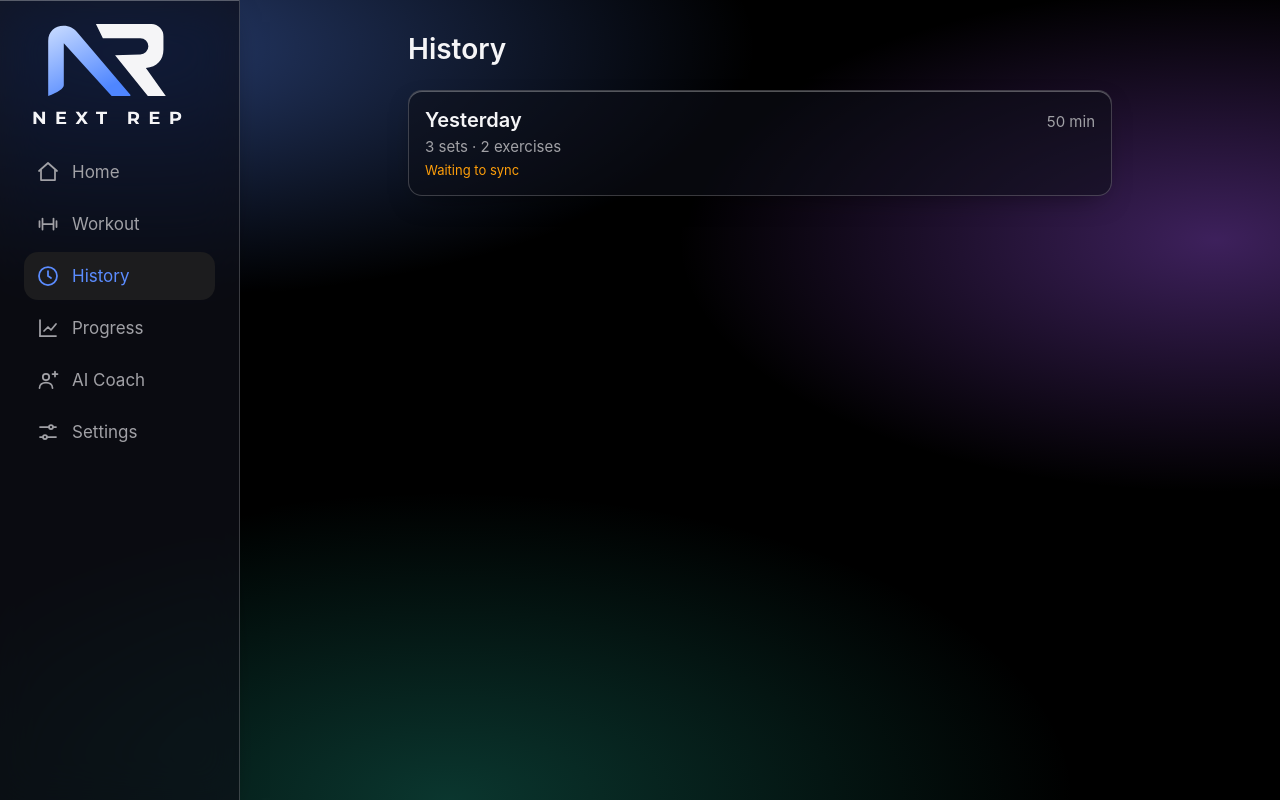
a past workout › shows the sets by exercise, numbered, with the bar breakdown
This screenshot has width=1280, height=800.
Click the link "Yesterday 50 min 3 sets · 2 exercises Waiting to sync" at (473, 120), box top-left (408, 90), bottom-right (1112, 196)
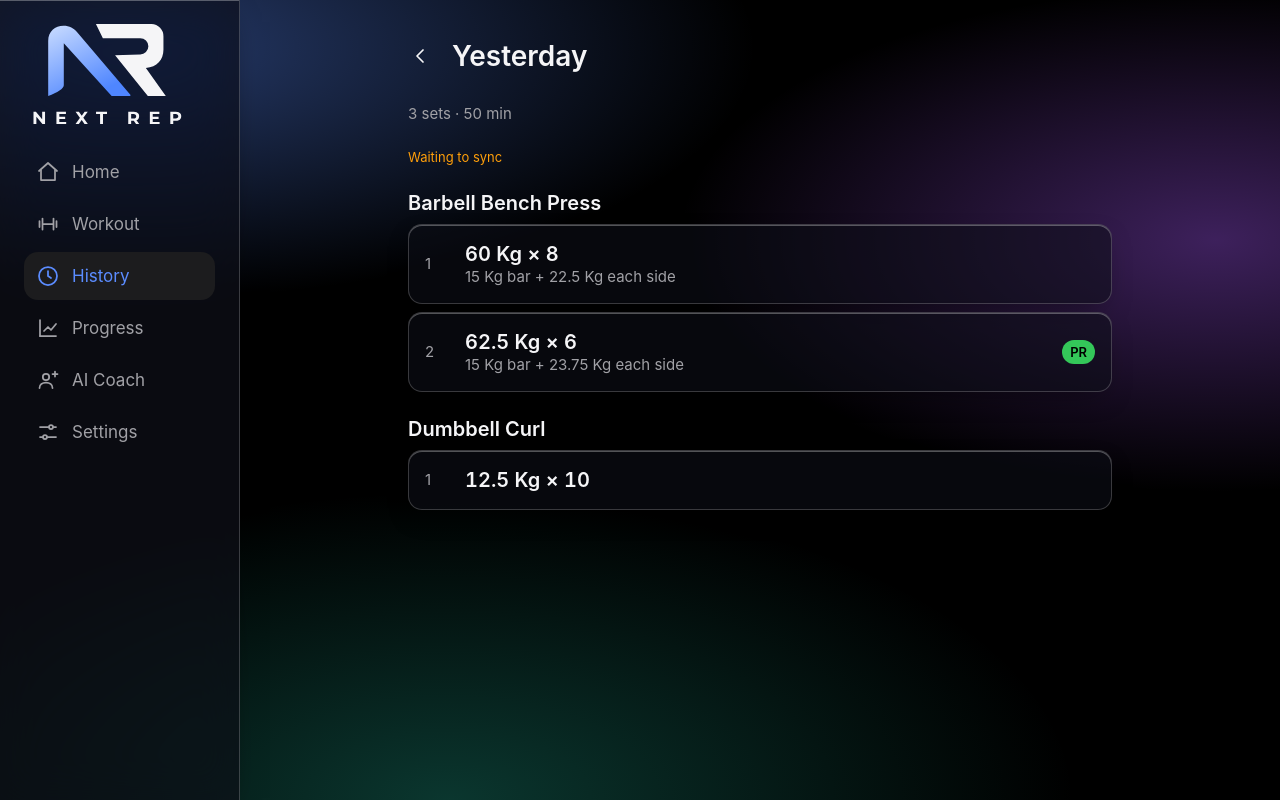
Expected: the heading "Yesterday" is shown, top-left (452, 39), bottom-right (587, 73)
Expected: the text "3 sets · 50 min" is shown, top-left (408, 104), bottom-right (512, 123)
Expected: the list item "1 60 Kg × 8 15 Kg bar + 22.5 Kg each side" is shown, top-left (408, 224), bottom-right (1112, 304)
